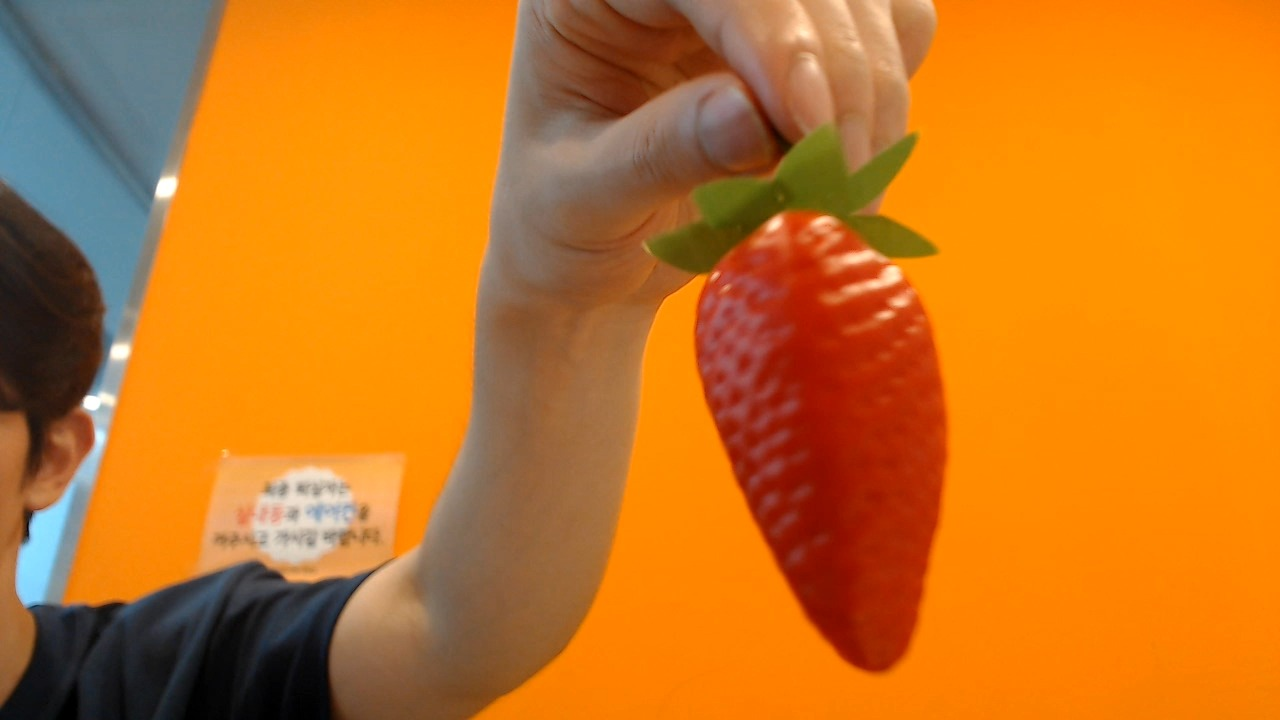strawberry: (673, 173, 948, 671)
